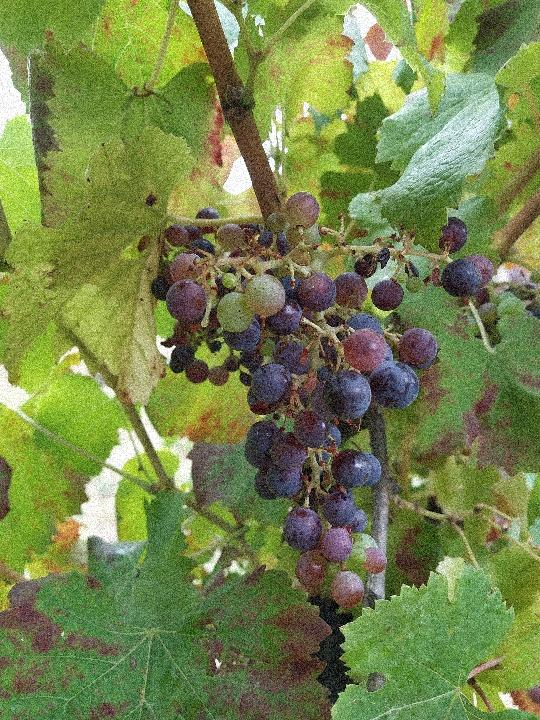grape: (147, 191, 496, 612)
